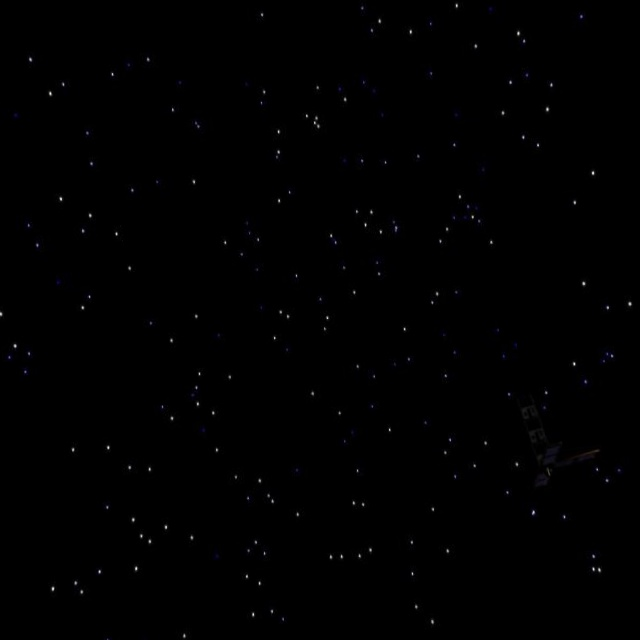satellite: (475, 367, 608, 496)
